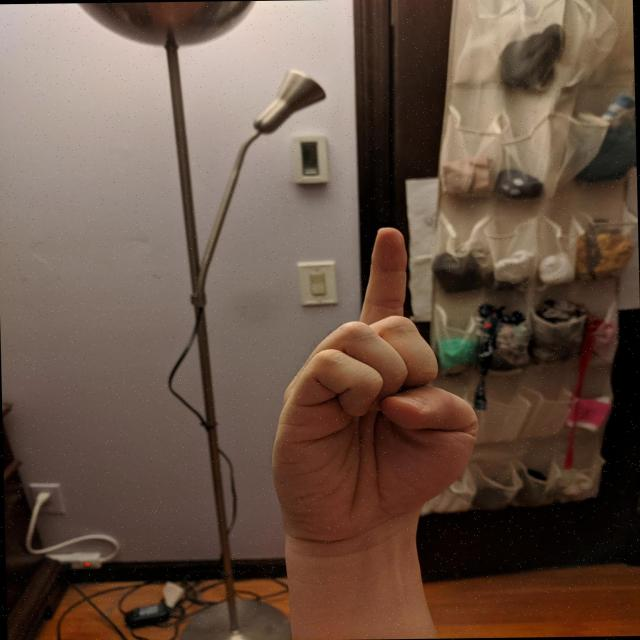D: (257, 221, 488, 555)
